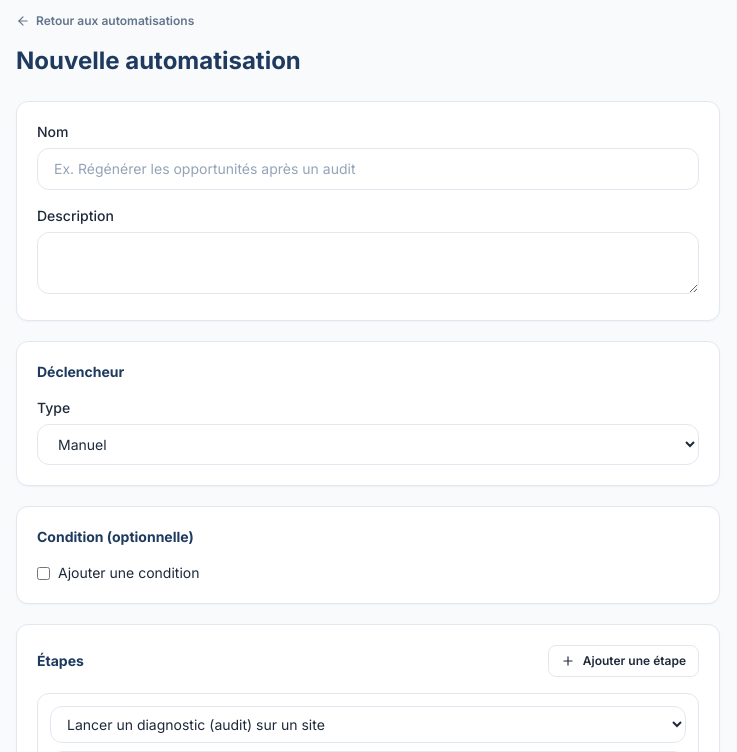
Test: PageOpsAutomationForm — scheduling builder (create) › includes the browser-detected timezone as a selectable, selected option even when absent from the supported list
In the field with placeholder "Ex. Régénérer les opportunités après un audit": {"x": 368, "y": 169} x1=37 y1=148 x2=699 y2=190, type "Test"
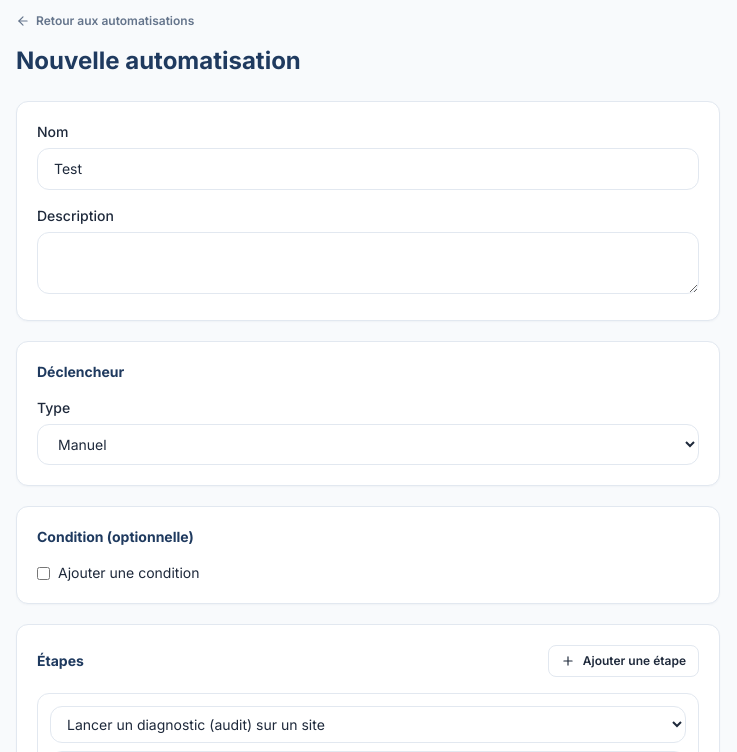
Select "Planifié" in the dropdown showing "Manuel" below "Type": {"x": 368, "y": 444} x1=37 y1=424 x2=699 y2=465
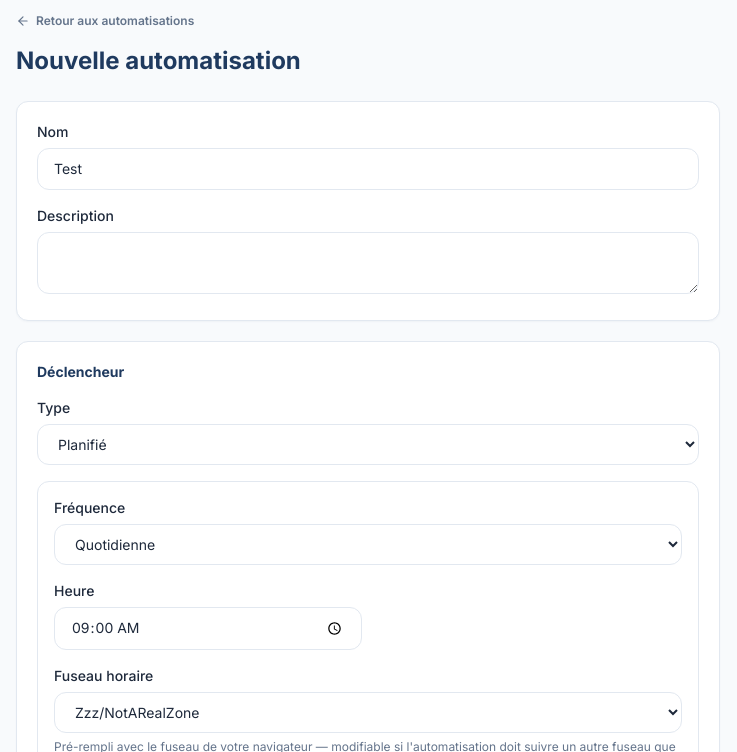
Check: the dropdown named "Fuseau horaire" shows "Zzz/NotARealZone", box x1=54 y1=692 x2=682 y2=733
